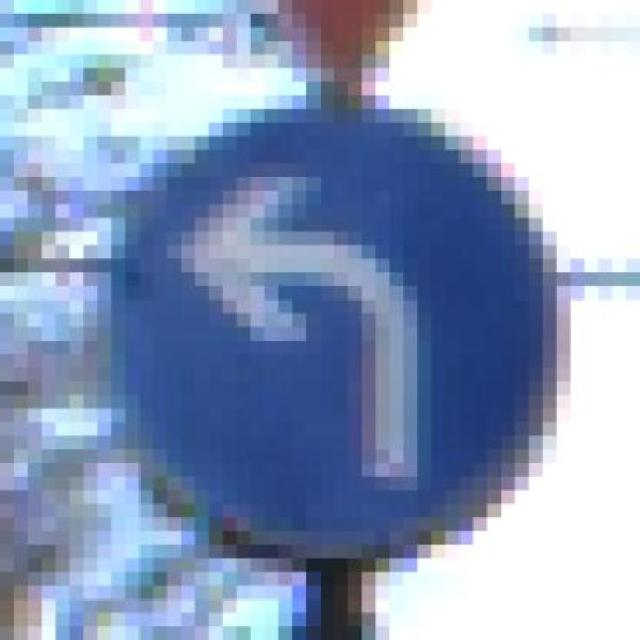Turn left ahead: (98, 96, 572, 559)
